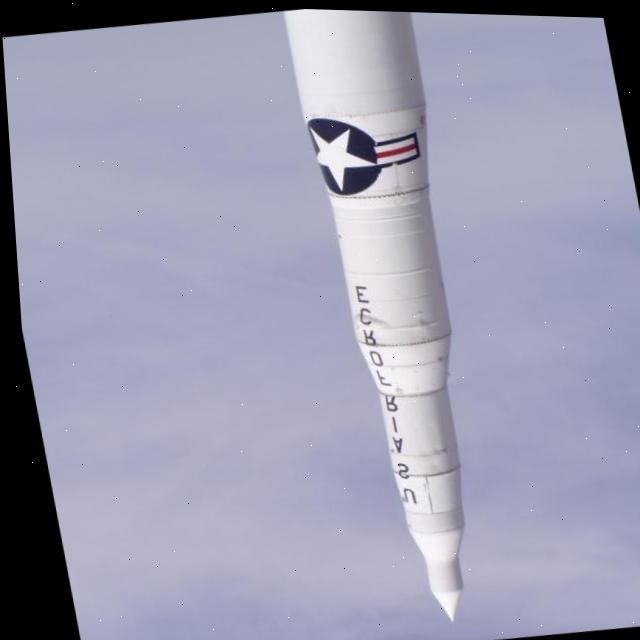missile: (275, 6, 520, 626)
